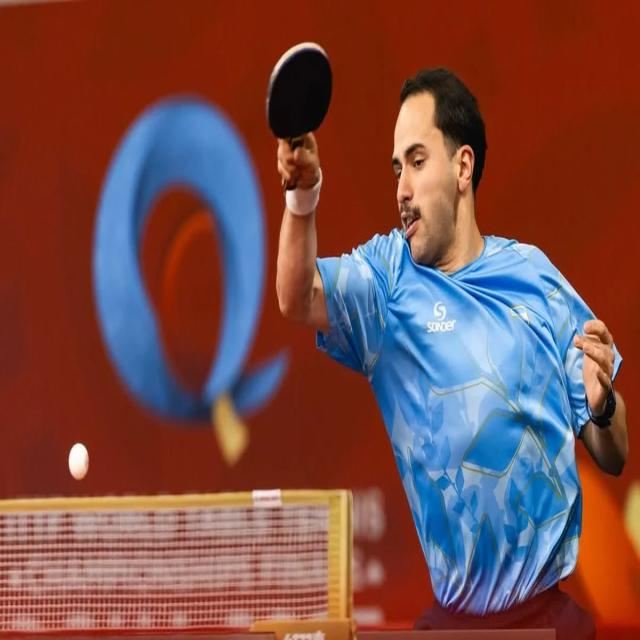TT Net: (0, 485, 356, 639)
TT Racket: (262, 37, 337, 144)
